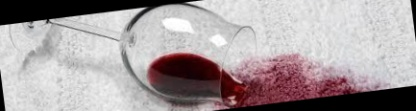wine: (224, 41, 383, 109)
